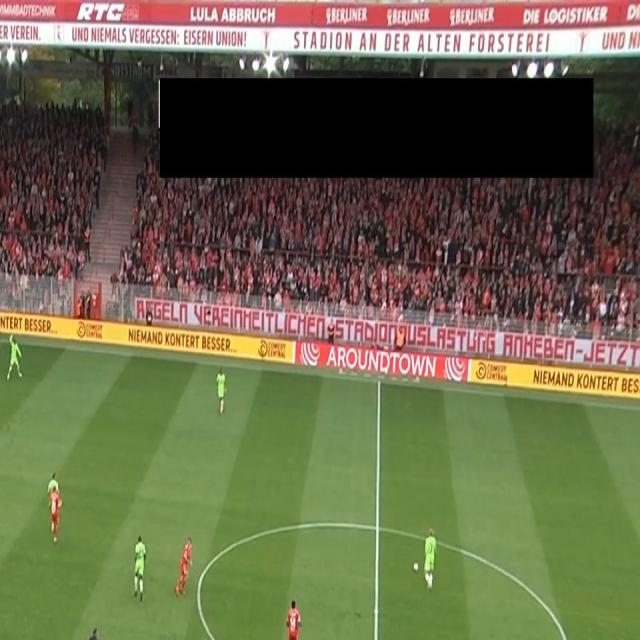ball: (412, 560, 420, 573)
